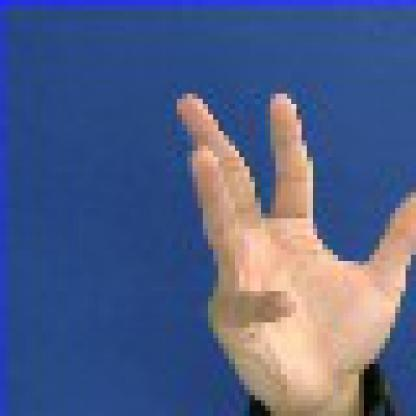nine: (135, 67, 411, 410)
